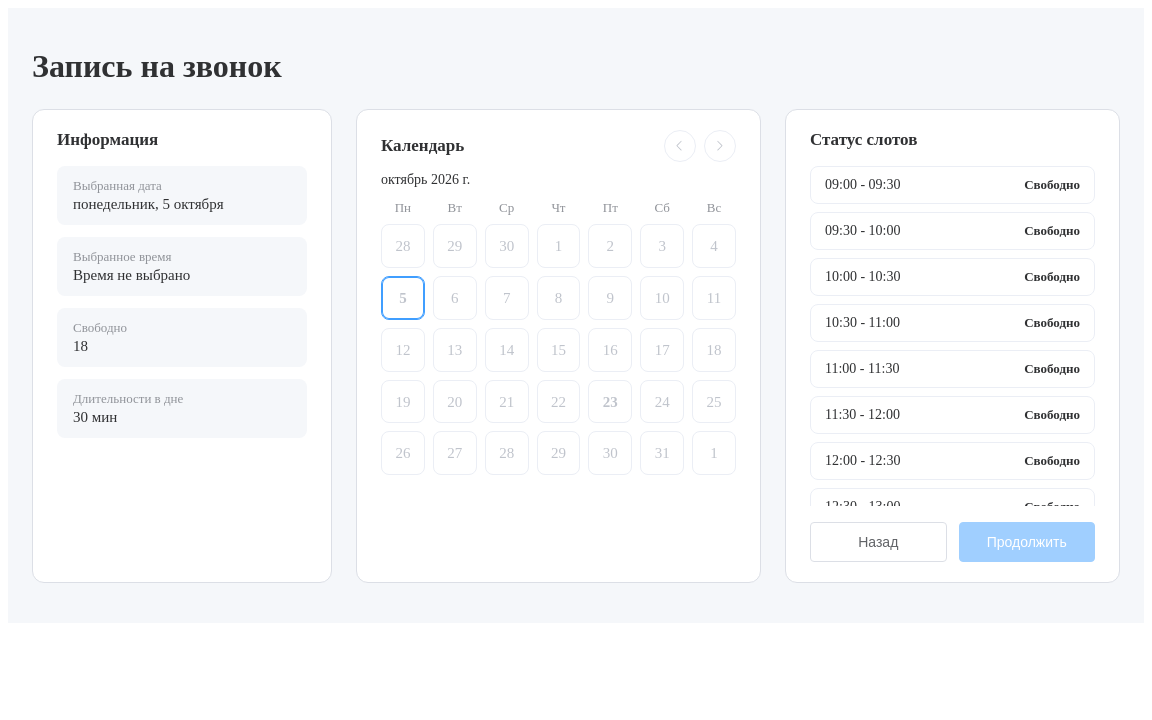
Test: BookingPage › creates a booking and shows the confirmation details
Click the button with class "slot" showing "10:00 - 10:30 Свободно".
click(863, 276)  # box 810,258 -> 1095,296
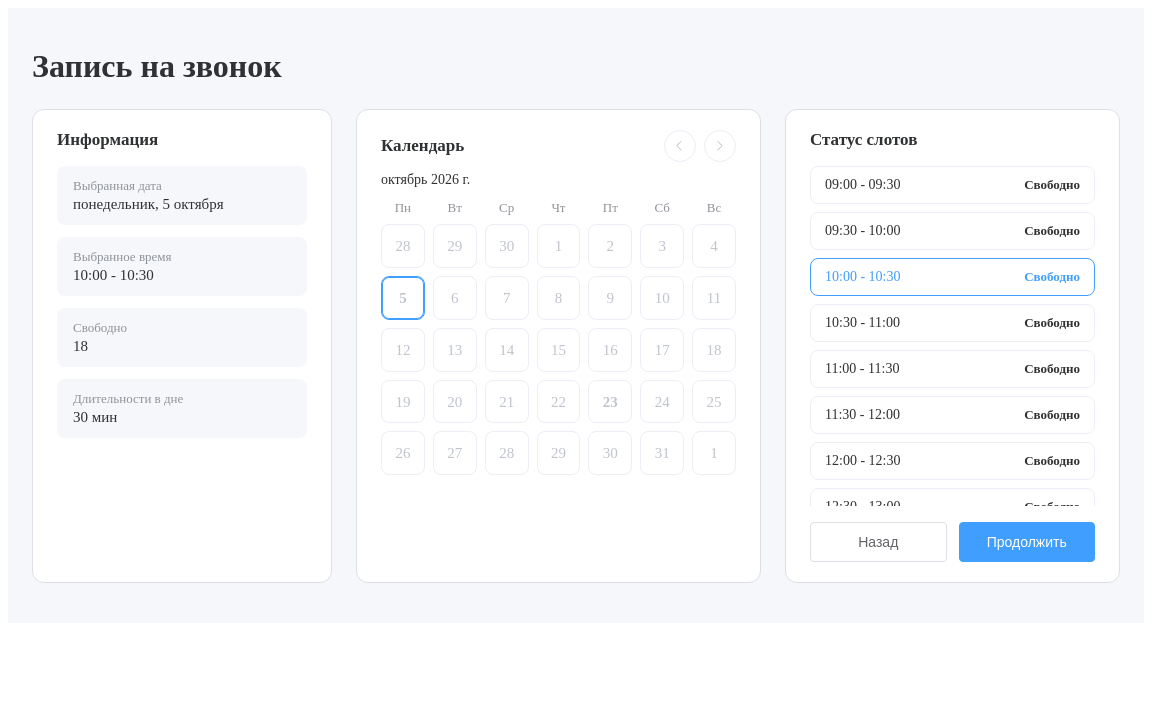
Click the button "Продолжить".
click(1027, 542)  # box 958,522 -> 1095,562
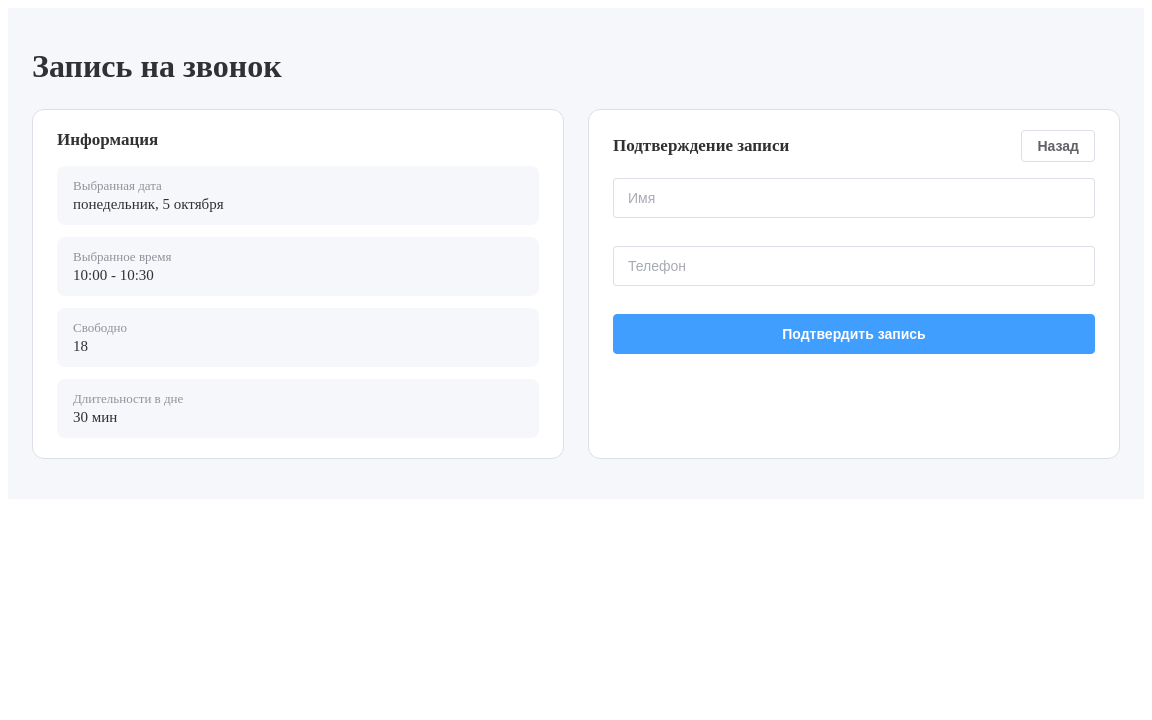
Type "Анна" into the field with placeholder "Имя".
click(854, 198); type("Анна")  # box 628,179 -> 1080,217
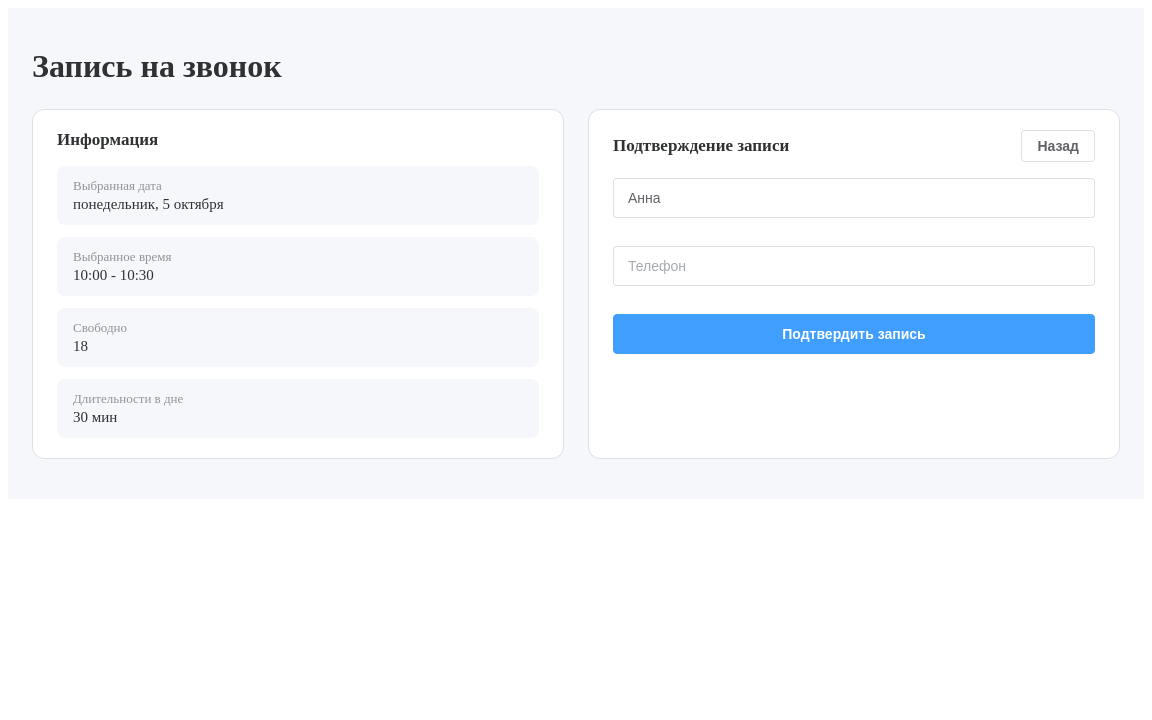
Type "+7 900 000-00-00" into the field with placeholder "Телефон".
click(854, 266); type("+7 900 000-00-00")  # box 628,247 -> 1080,285
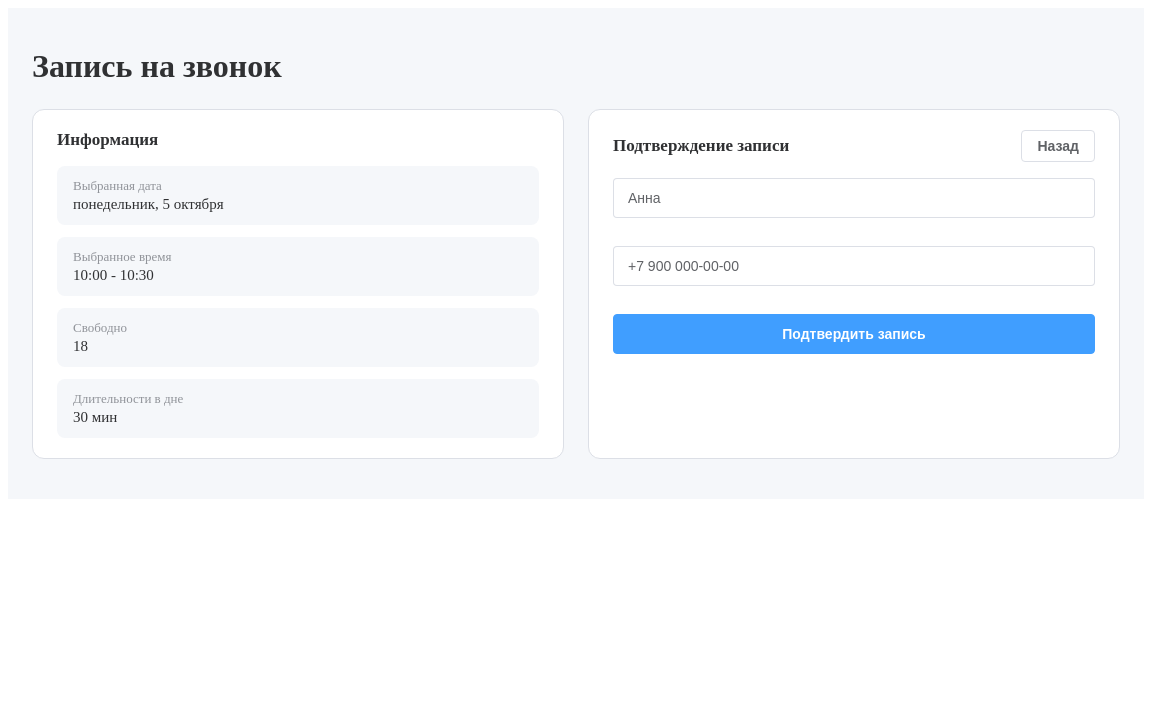
Submit the form, box 613,178 -> 1095,354
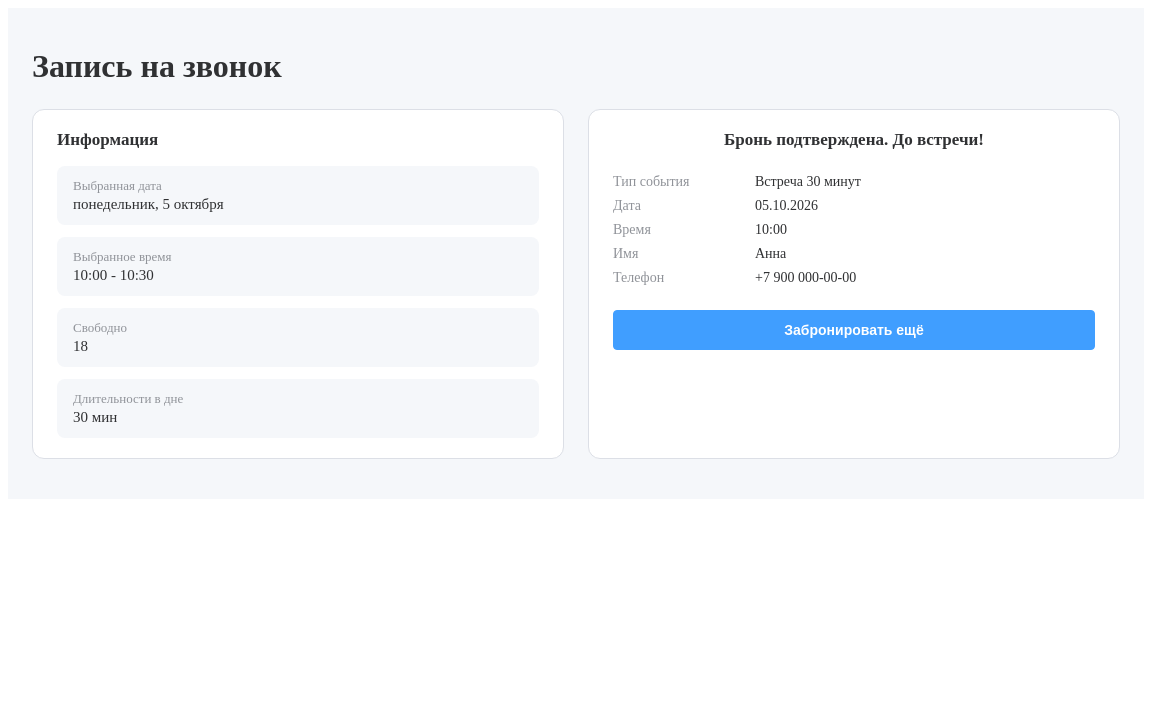
Result: the text "Бронь подтверждена. До встречи!" is shown at 724,130 -> 984,149
Result: the text "Встреча 30 минут" is shown at 755,174 -> 861,190
Result: the text "05.10.2026" is shown at 755,198 -> 818,214
